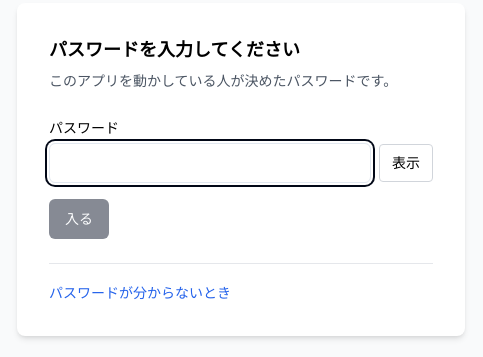
Test: M22-08 ログイン欄の検査は「空」だけ › 全角と半角が混ざっていると、半角だけが残る
Type "ｐａｓｓword１２３" into the password field with test id "auth-login-password-input" at (210, 162), box [49, 142, 371, 182]
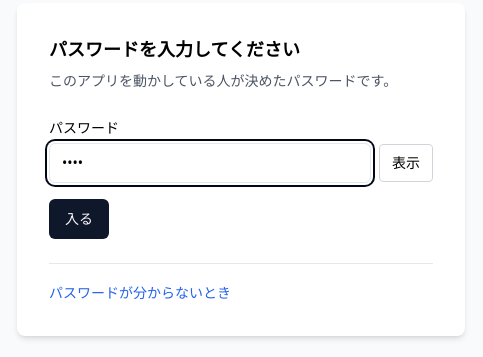
Check: the password field with test id "auth-login-password-input" holds "word", box [49, 142, 371, 182]
